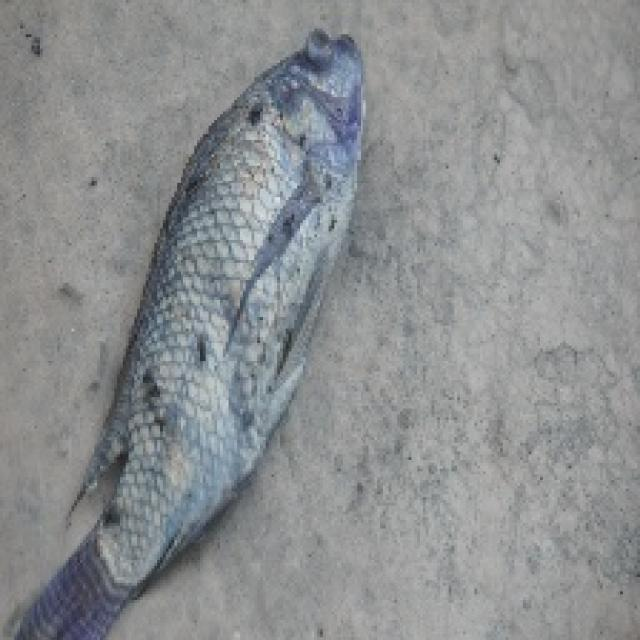Non-Fresh: (142, 23, 399, 496)
